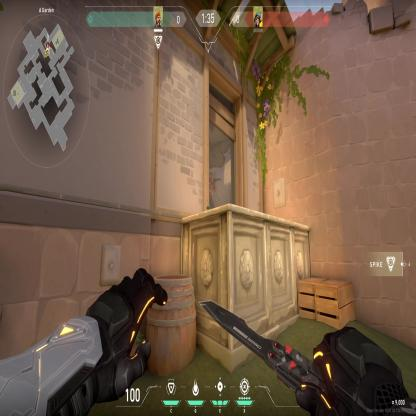enemy: (208, 164, 217, 212)
